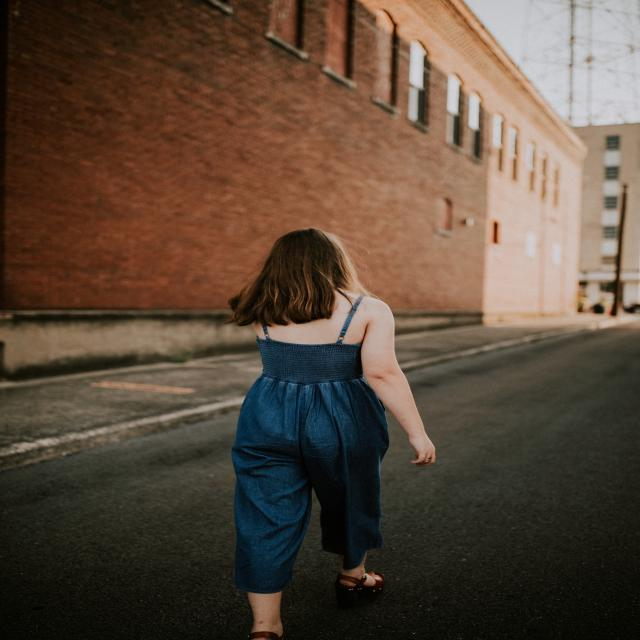adult: (197, 229, 433, 640)
